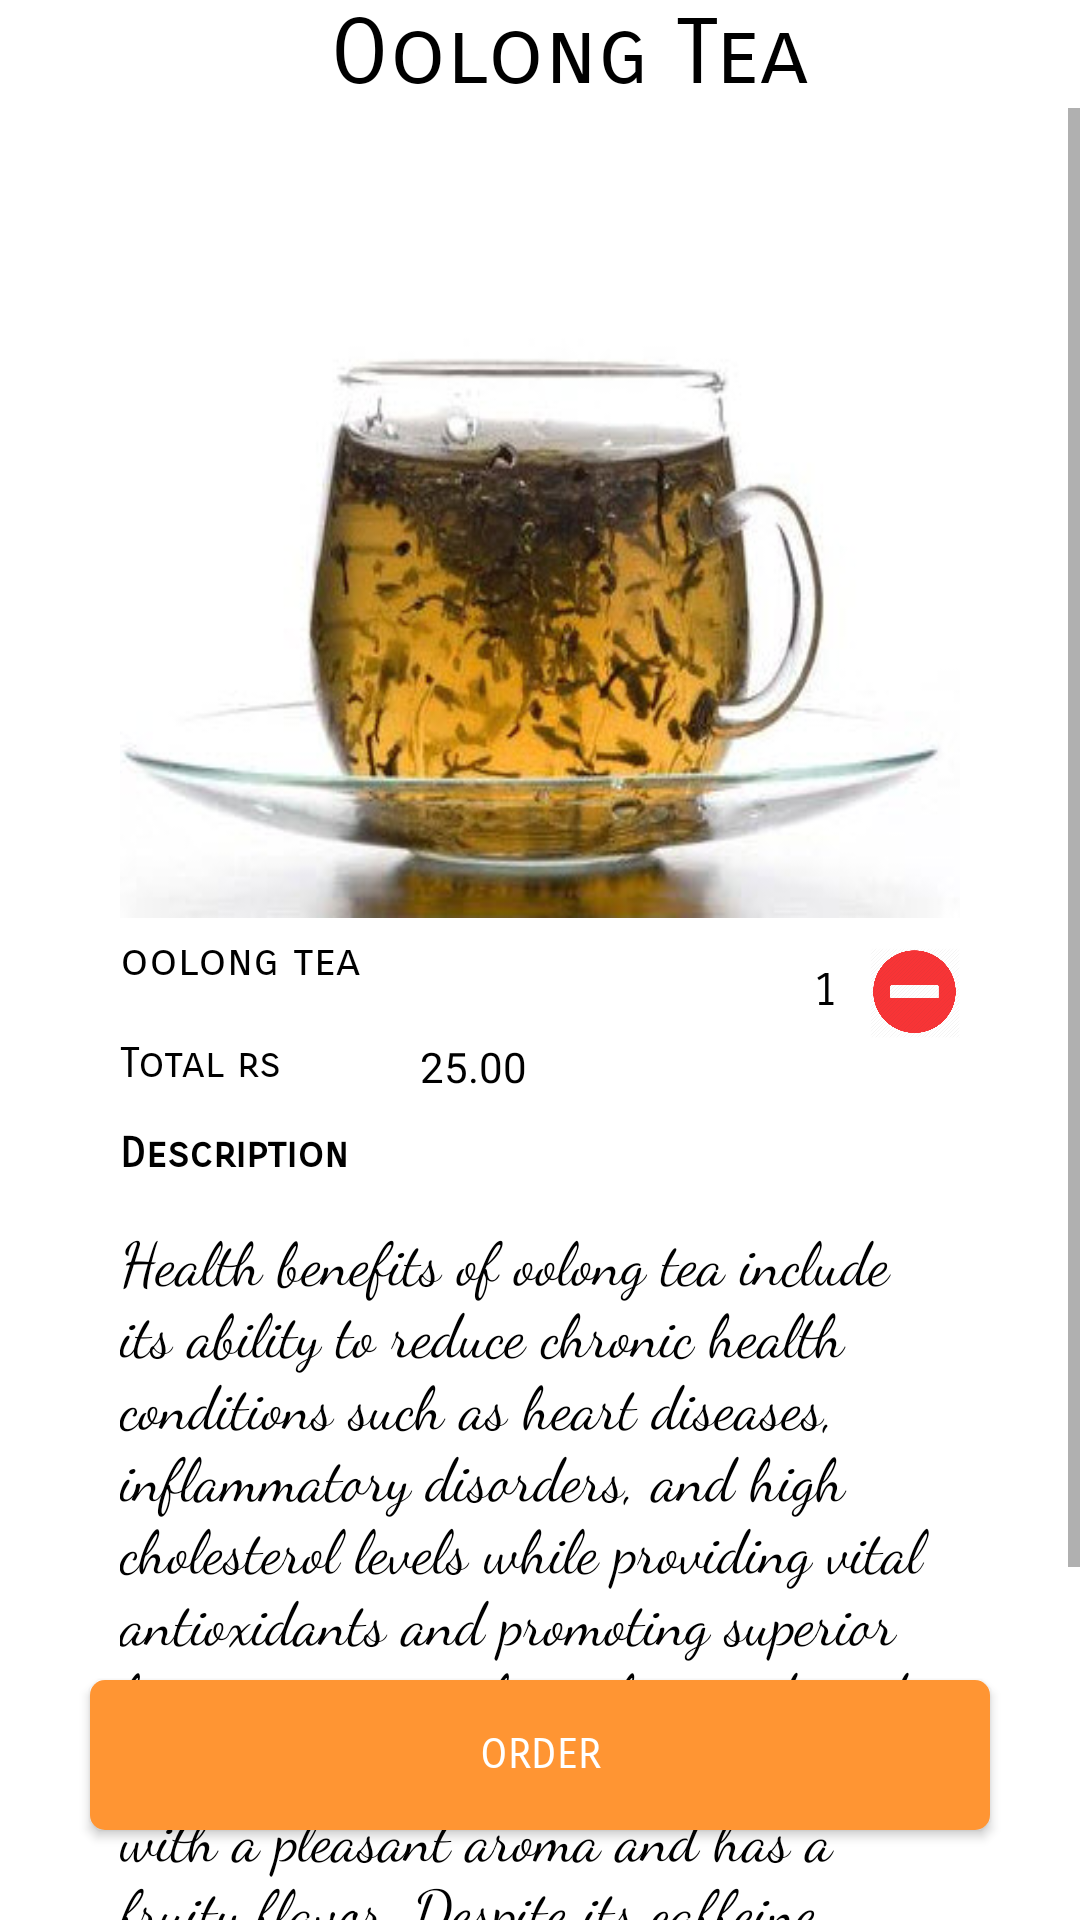

Icons on this 1080 × 1920 Android screen, each with the point to tap as point (x, y):
minus: point (914, 991)
